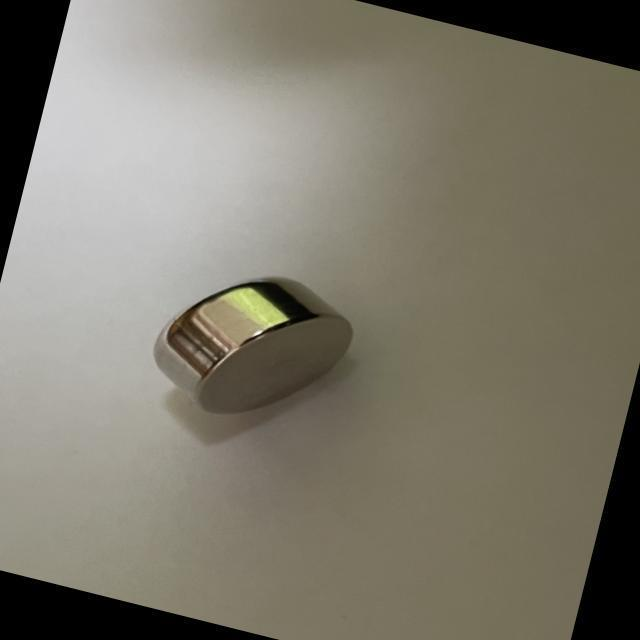COIN: (143, 247, 360, 444)
